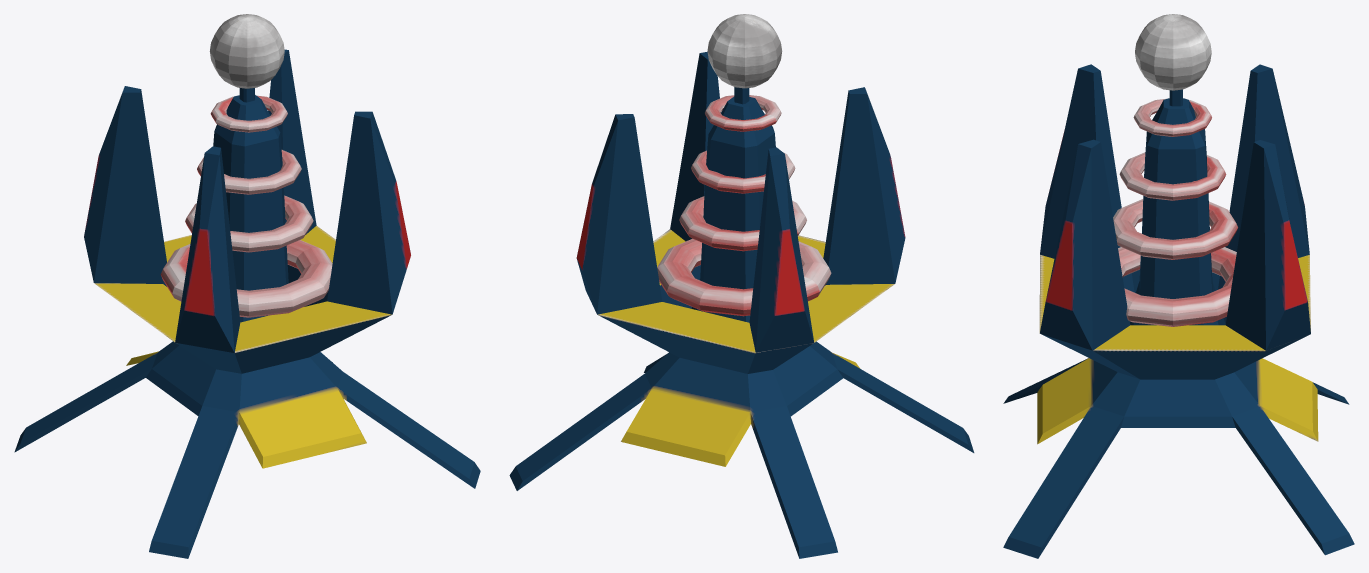
Rendered from Tour tesla3.fbx.
3 renders of one model, left to right at view 1: azimuth 30°, elevation 25°; view 2: azimuth 150°, elevation 25°; view 3: azimuth 270°, elevation 25°, orthographic. The views are drawn at different scales.
Visible parts, largest first — view 1: Tour 3; view 2: Tour 3; view 3: Tour 3.
Part boxes in pixels (box(x1,y1,x2,y2)): Tour 3: box(14, 14, 480, 558); Tour 3: box(509, 14, 974, 558); Tour 3: box(1003, 14, 1354, 558).
Bounding box in the file's own units: 47.89 × 61.53 × 42.83.
